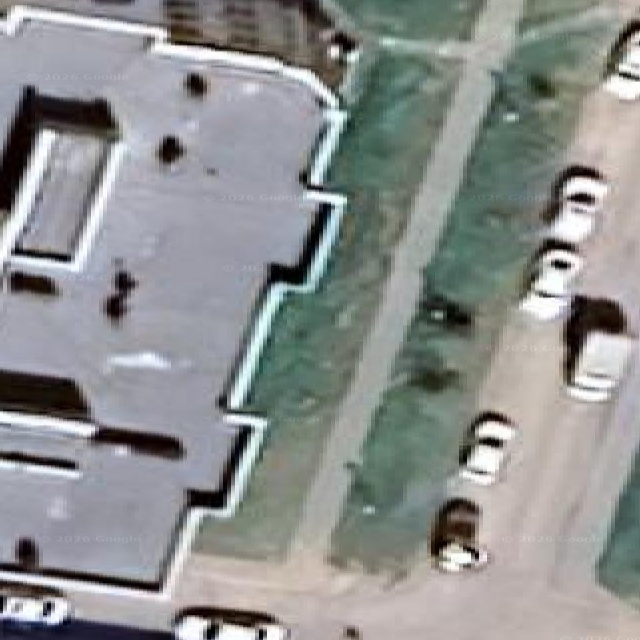car: (564, 296, 635, 400), (567, 332, 635, 400), (548, 167, 607, 243), (520, 247, 582, 319), (430, 497, 487, 572), (460, 413, 515, 484), (89, 427, 183, 460), (172, 613, 287, 639), (604, 28, 639, 100), (0, 593, 68, 626), (436, 542, 487, 572)
